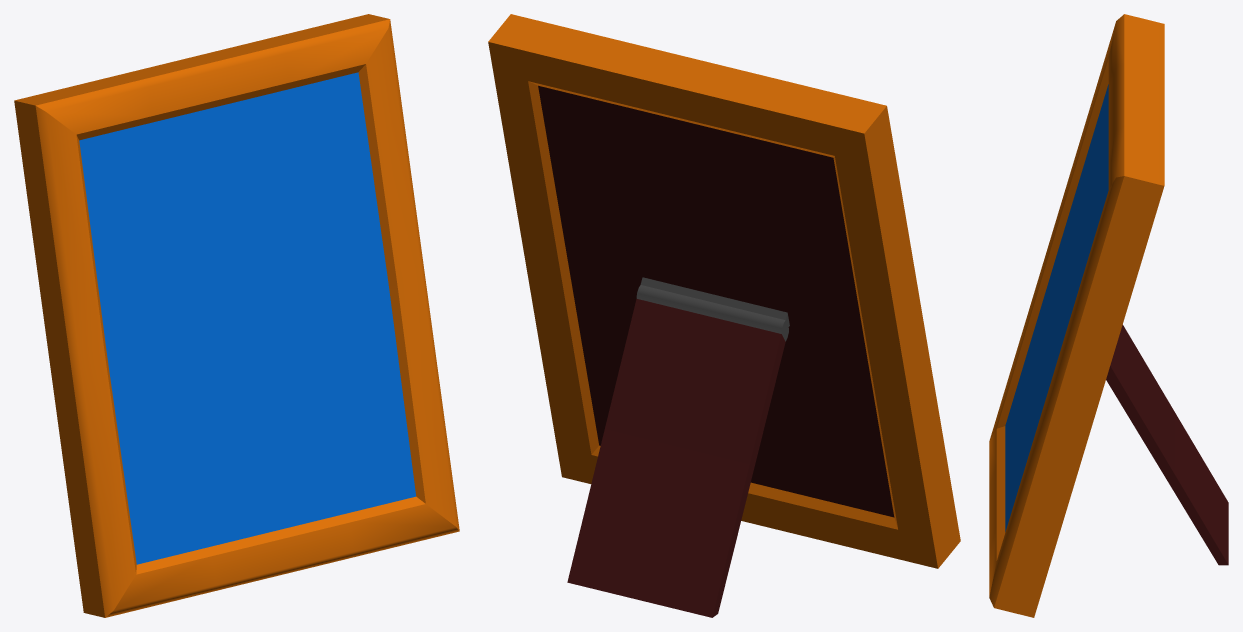
Rendered from standingPictureframe_modell_alvin_001.fbx.
3 renders of one model, left to right at view 1: azimuth 30°, elevation 25°; view 2: azimuth 150°, elevation 25°; view 3: azimuth 270°, elevation 25°, orthographic. The views are drawn at different scales.
Parts seen in each view (by area): view 1: photoframe; view 2: photoframe; view 3: photoframe.
Part boxes in pixels (box(x1,y1,x2,y2)): photoframe: box(14, 14, 459, 617); photoframe: box(488, 14, 960, 617); photoframe: box(989, 14, 1228, 617).
Bounding box in the file's own units: 276 × 351 × 172.
